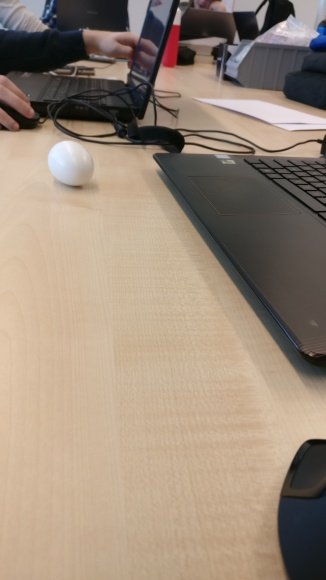egg: (48, 140, 94, 188)
